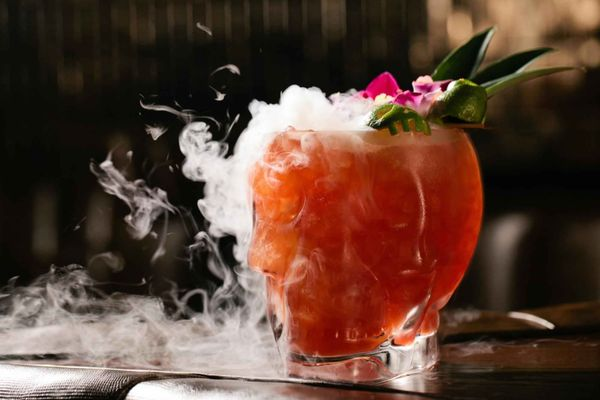soup: (242, 123, 484, 380)
